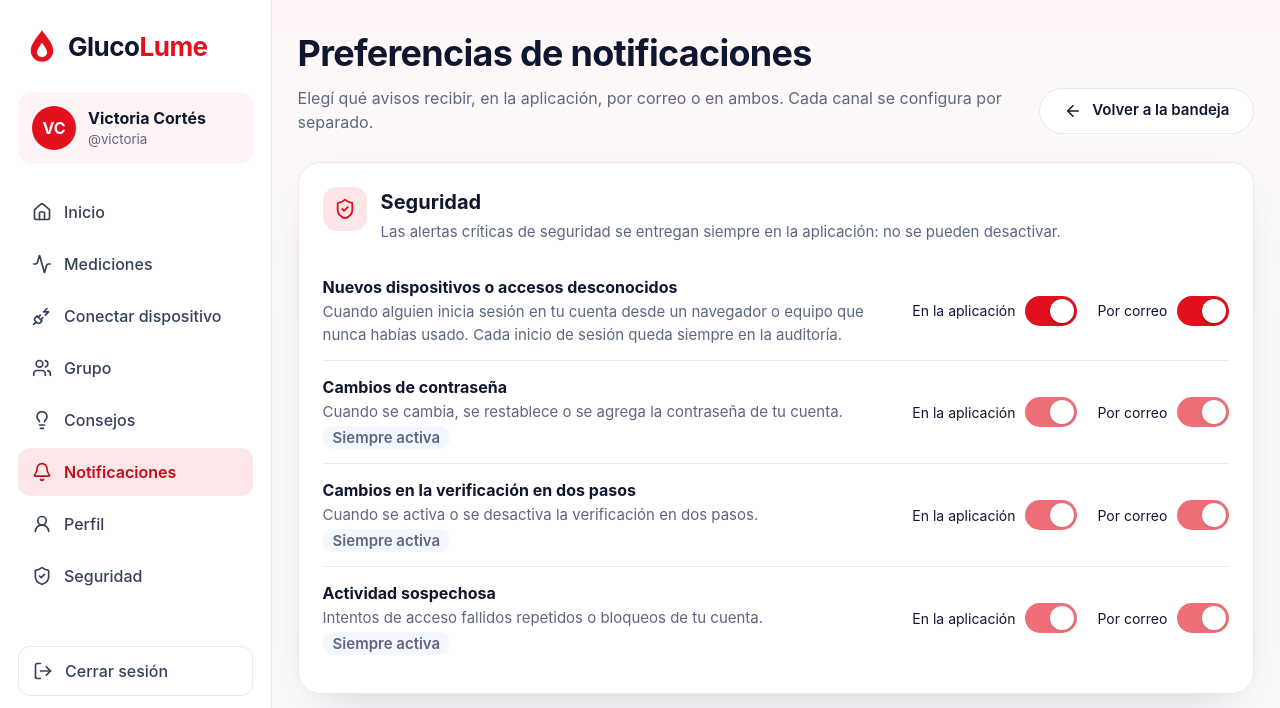
it: Preferencias de notificaciones › si el backend rechaza el cambio, muestra el error y el interruptor no cambia
Click the switch named "En la aplicación: Nuevos dispositivos o accesos desconocidos": (1052, 311) [1026,296,1078,326]
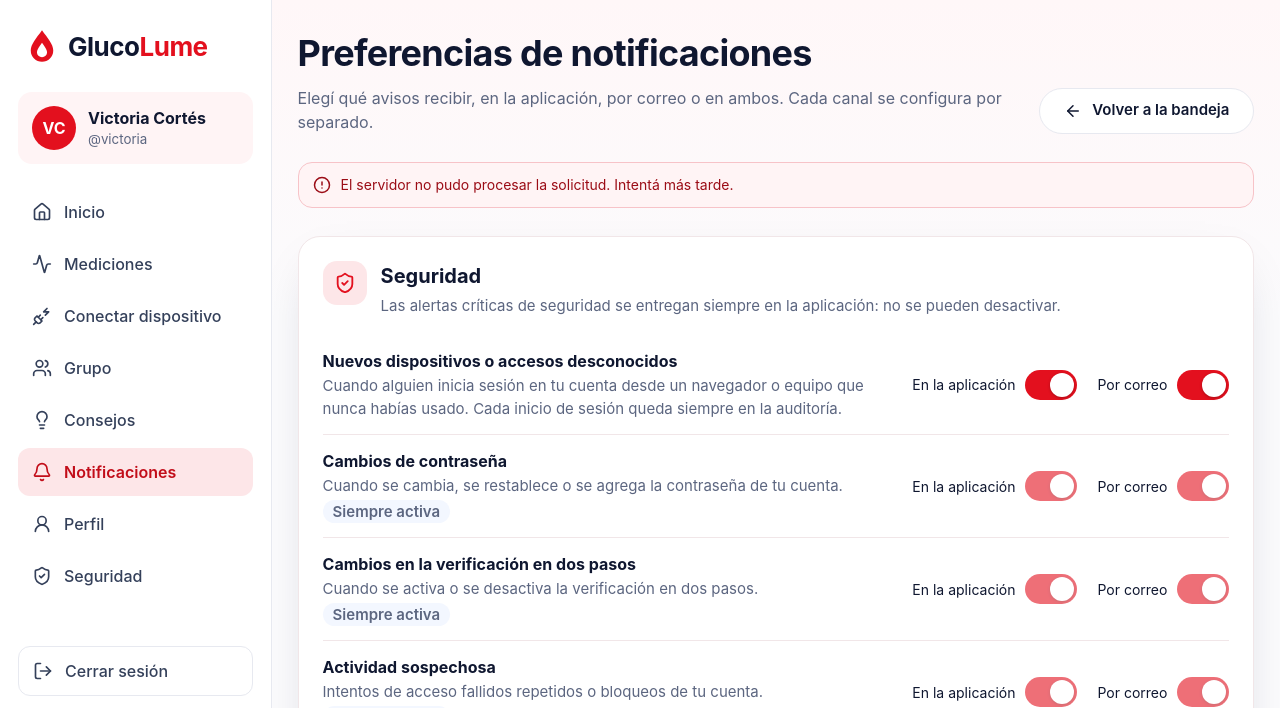
Check: the message "El servidor no pudo procesar la solicitud. Intentá más tarde." is shown, box [298,162,1254,208]
